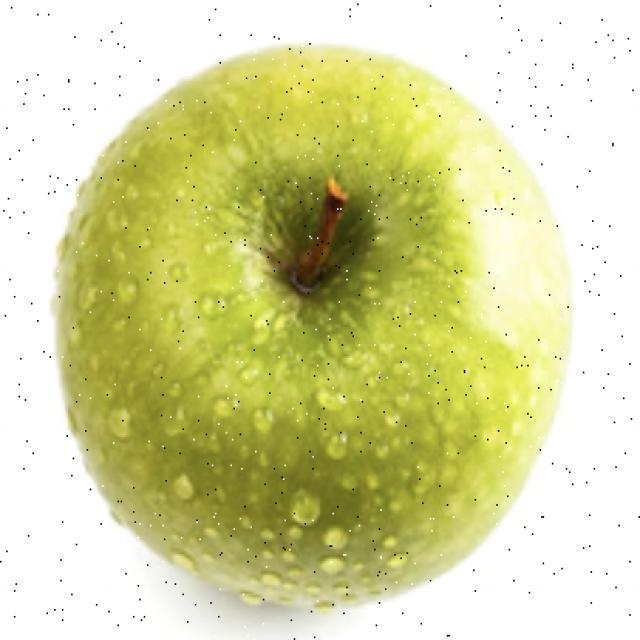Fresh Apple: (86, 67, 532, 575)
